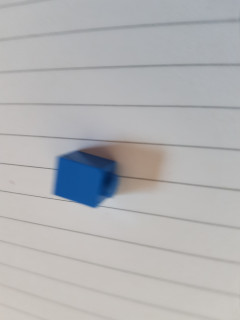1x1 blue: (54, 151, 120, 208)
